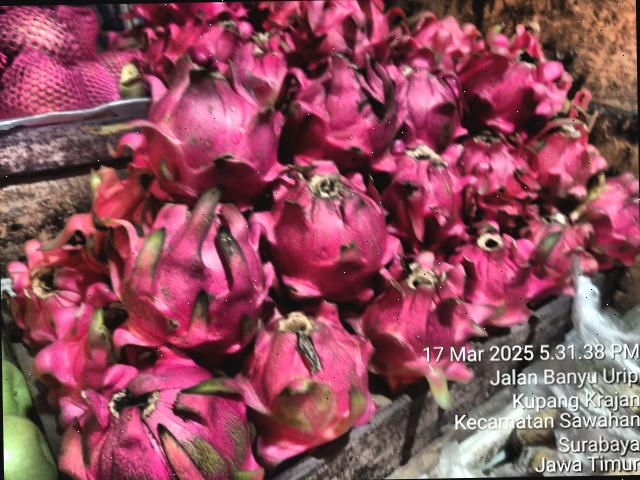buah-naga-matang: (53, 349, 259, 480), (112, 190, 270, 345), (125, 53, 292, 196), (234, 301, 376, 442), (364, 255, 490, 400), (262, 160, 392, 296), (298, 42, 401, 173), (444, 214, 553, 336), (386, 138, 481, 258), (29, 295, 150, 373), (468, 25, 554, 134), (389, 49, 476, 153), (70, 166, 154, 268), (11, 234, 96, 333), (532, 114, 607, 214), (463, 124, 541, 220), (583, 166, 640, 274), (518, 203, 594, 281)
